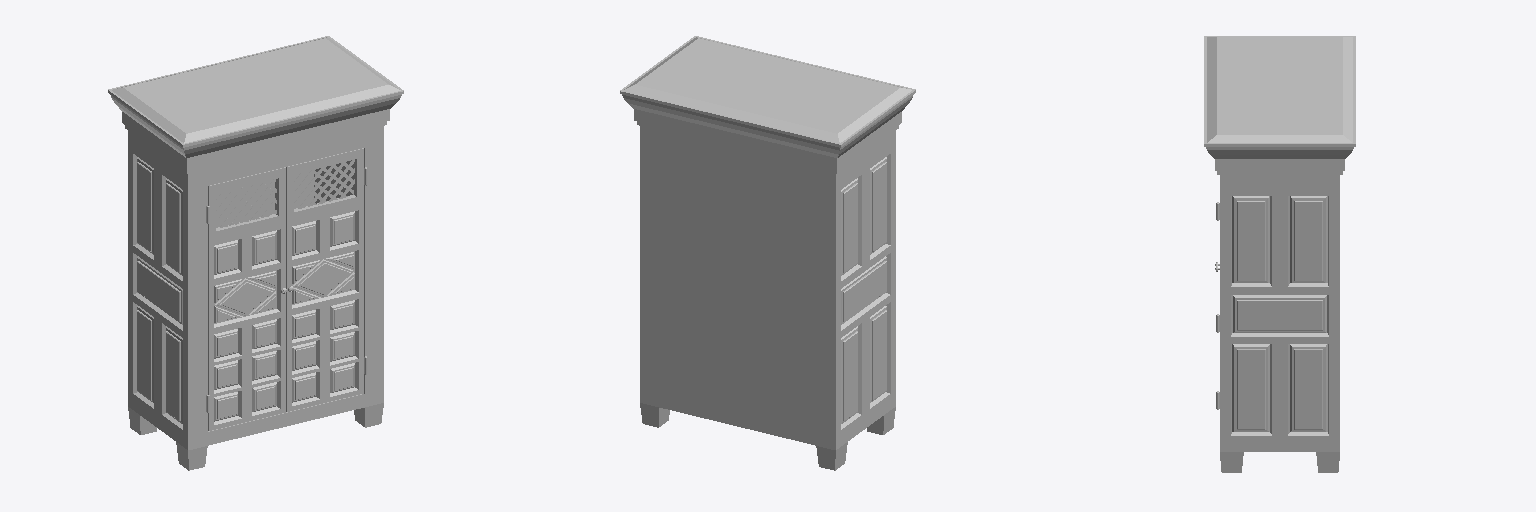
File: cupboard.obj
The picture shows the model from 3 angles: view 1: azimuth 30°, elevation 25°; view 2: azimuth 150°, elevation 25°; view 3: azimuth 270°, elevation 25°; orthographic projection.
Parts seen in each view (by area): view 1: spera_cupboard_tst_body_spera_cupboard_tst_flat_parts_0, spera_cupboard_tst_body_spera_cupboard_tst_unique_parts_0, spera_cupboard_tst_left_door_spera_cupboard_tst_unique_parts_0, spera_cupboard_tst_right_door_spera_cupboard_tst_unique_parts_0, spera_cupboard_tst_right_door_spera_cupboard_tst_flat_parts_0, spera_cupboard_tst_left_door_spera_cupboard_tst_flat_parts_0; view 2: spera_cupboard_tst_body_spera_cupboard_tst_flat_parts_0, spera_cupboard_tst_body_spera_cupboard_tst_unique_parts_0; view 3: spera_cupboard_tst_body_spera_cupboard_tst_flat_parts_0, spera_cupboard_tst_body_spera_cupboard_tst_unique_parts_0.
Boxes of the visible parts, x1=… form: spera_cupboard_tst_body_spera_cupboard_tst_flat_parts_0: x1=108, y1=36, x2=403, y2=470; spera_cupboard_tst_body_spera_cupboard_tst_unique_parts_0: x1=133, y1=154, x2=367, y2=429; spera_cupboard_tst_left_door_spera_cupboard_tst_unique_parts_0: x1=214, y1=229, x2=286, y2=424; spera_cupboard_tst_right_door_spera_cupboard_tst_unique_parts_0: x1=288, y1=210, x2=358, y2=405; spera_cupboard_tst_right_door_spera_cupboard_tst_flat_parts_0: x1=286, y1=148, x2=363, y2=411; spera_cupboard_tst_left_door_spera_cupboard_tst_flat_parts_0: x1=208, y1=167, x2=285, y2=430; spera_cupboard_tst_body_spera_cupboard_tst_flat_parts_0: x1=620, y1=36, x2=915, y2=470; spera_cupboard_tst_body_spera_cupboard_tst_unique_parts_0: x1=841, y1=154, x2=890, y2=429; spera_cupboard_tst_body_spera_cupboard_tst_flat_parts_0: x1=1204, y1=36, x2=1355, y2=472; spera_cupboard_tst_body_spera_cupboard_tst_unique_parts_0: x1=1216, y1=196, x2=1328, y2=435.
Size of the model in its own units: 5.93 by 8.71 by 3.51.